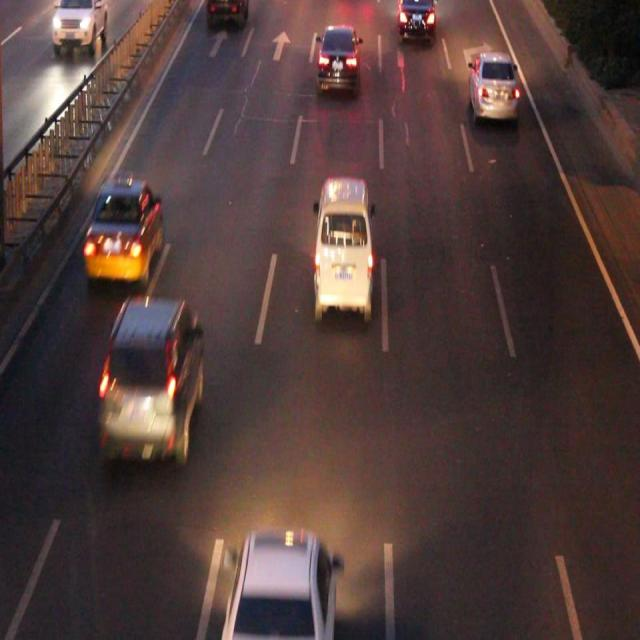car: (101, 301, 202, 455), (225, 532, 334, 640), (84, 182, 162, 275), (468, 55, 516, 120), (318, 27, 358, 87), (398, 1, 434, 39), (207, 1, 246, 24)
truck: (315, 178, 370, 312)
